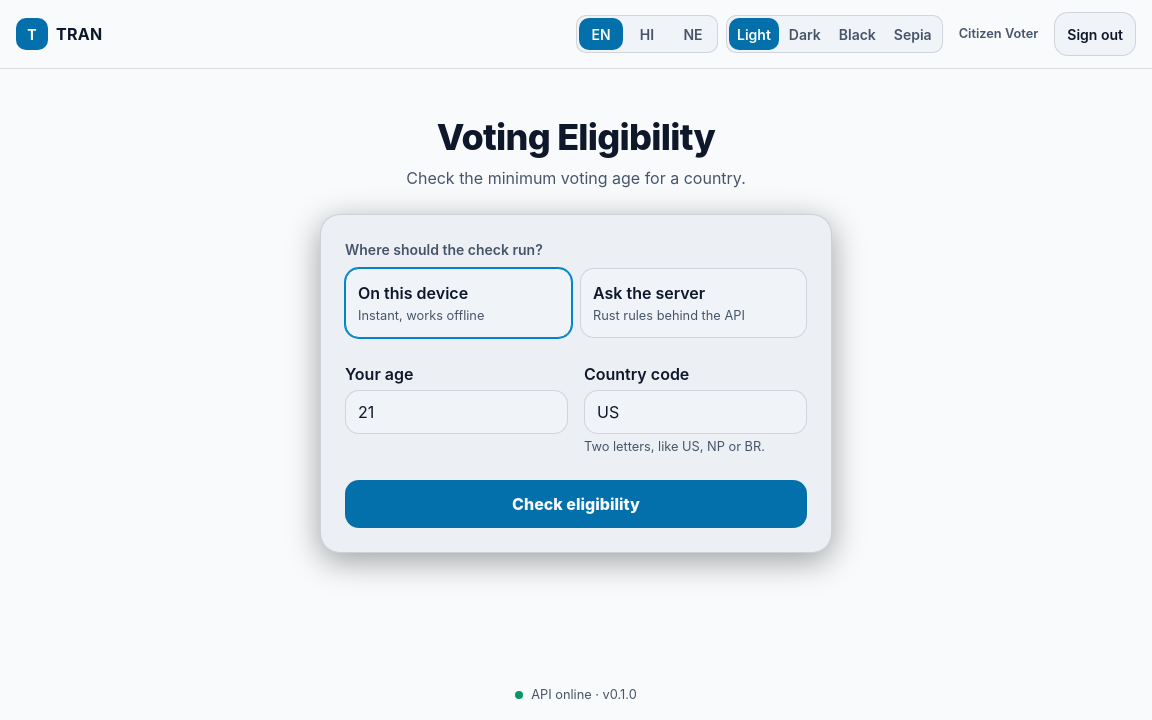
Test: App: accessibility behaviour › exposes the result as a live region that exists before the first check
Expected: the text "API online · v0.1.0" is shown, 515,686 -> 637,704
Replace the text in the field labelled "Your age" with "30" at (456,412), box 345,390 -> 568,434
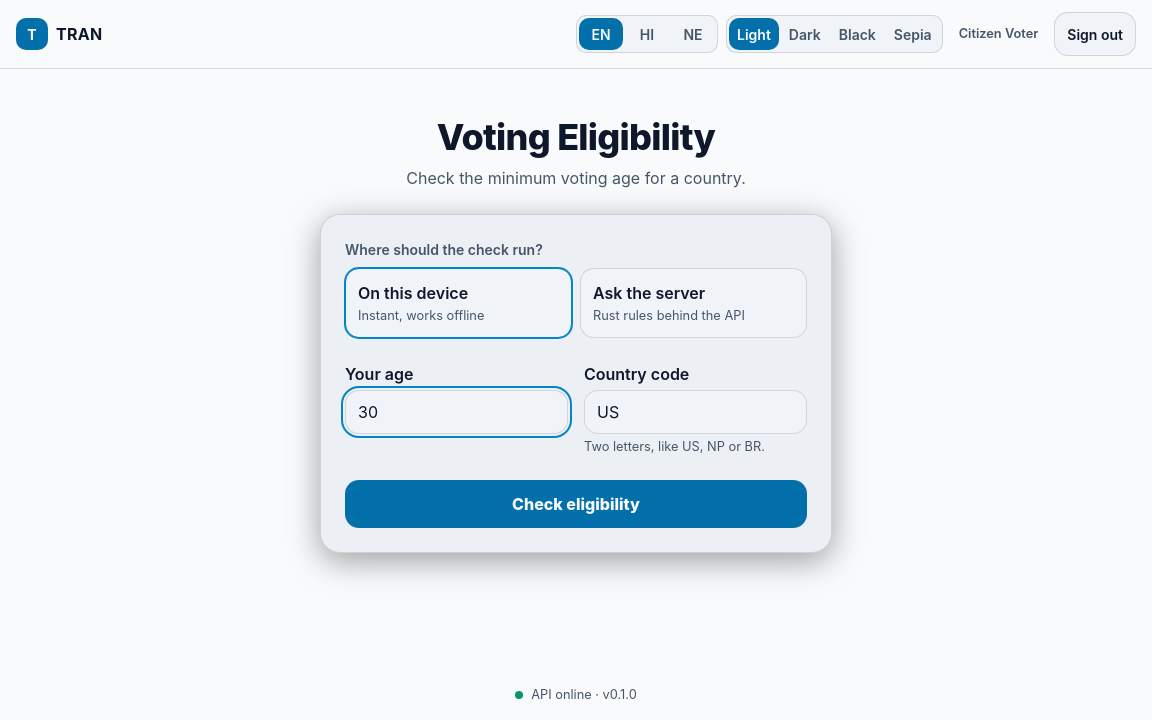
Click the button "Check eligibility".
click(576, 504)  # box 345,480 -> 807,528
(page scrolled)
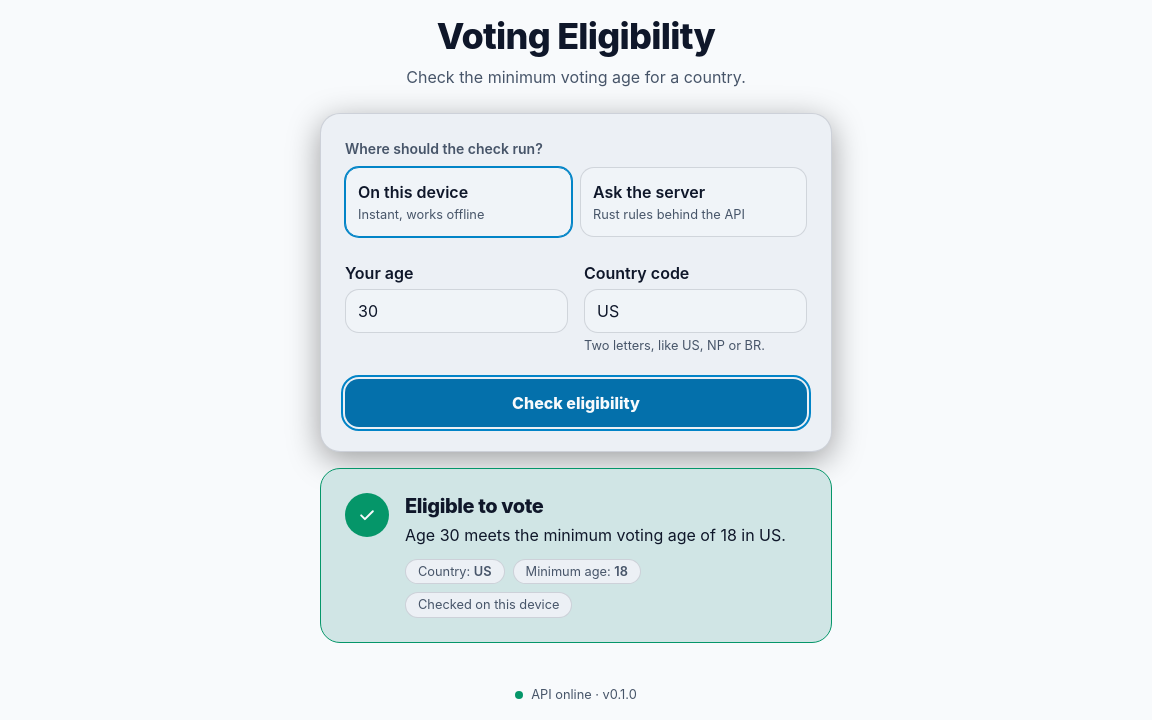
Expected: the message named "Result" shows "Eligible to vote", 405,494 -> 543,518
